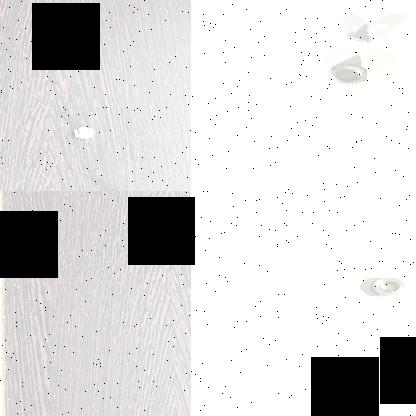Bolts: (66, 126, 96, 141)
NUTS: (308, 58, 380, 92), (337, 19, 379, 47), (366, 274, 408, 298), (386, 337, 416, 363)
